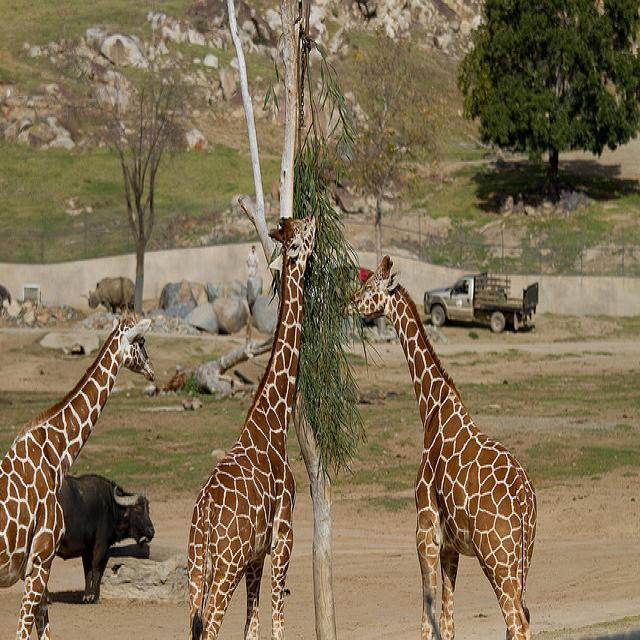cow: (56, 472, 155, 601)
